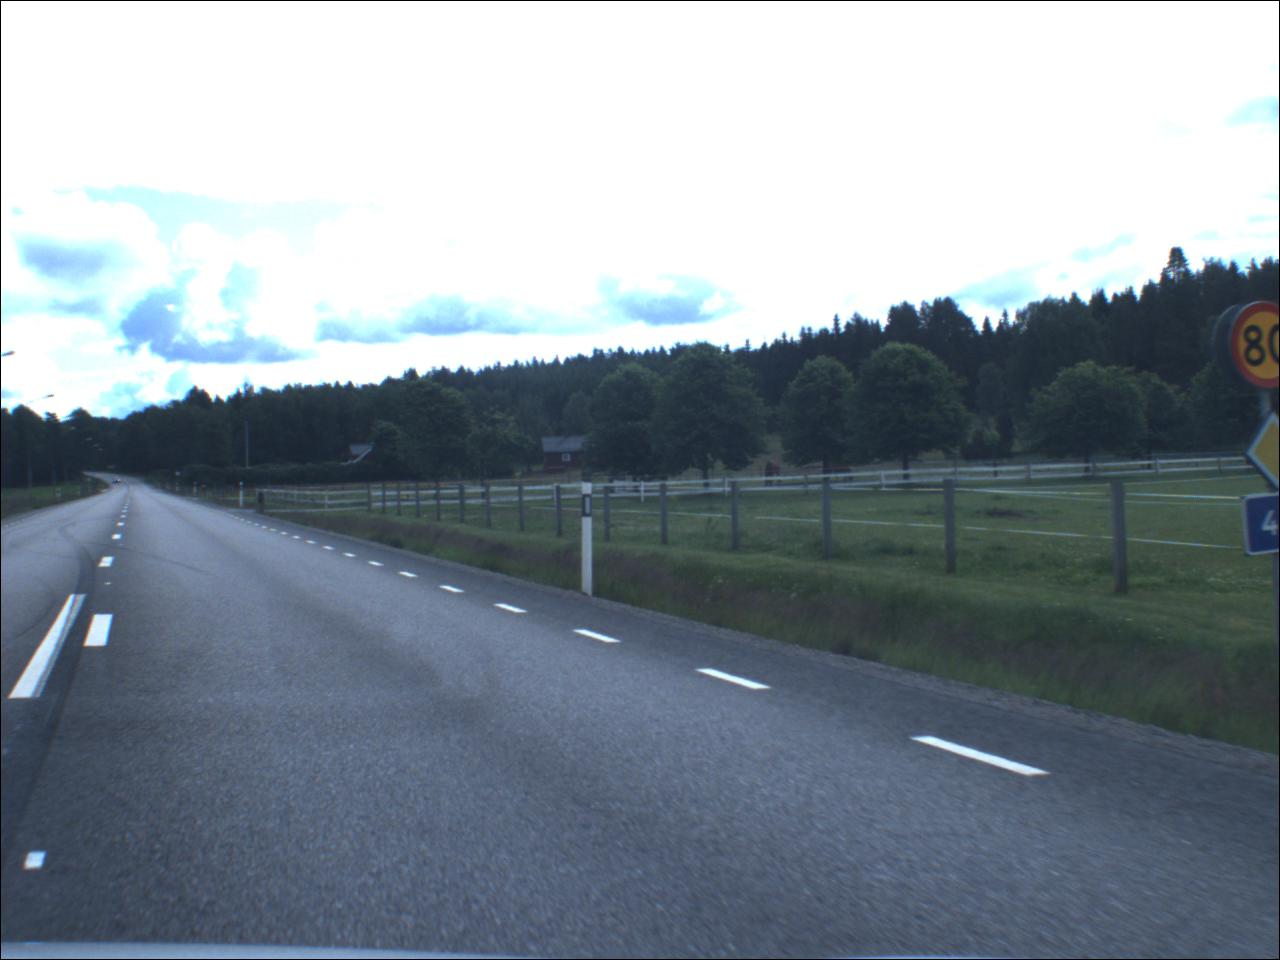80_SIGN: (1229, 298, 1280, 390)
PRIORITY_ROAD: (1229, 400, 1280, 494)
